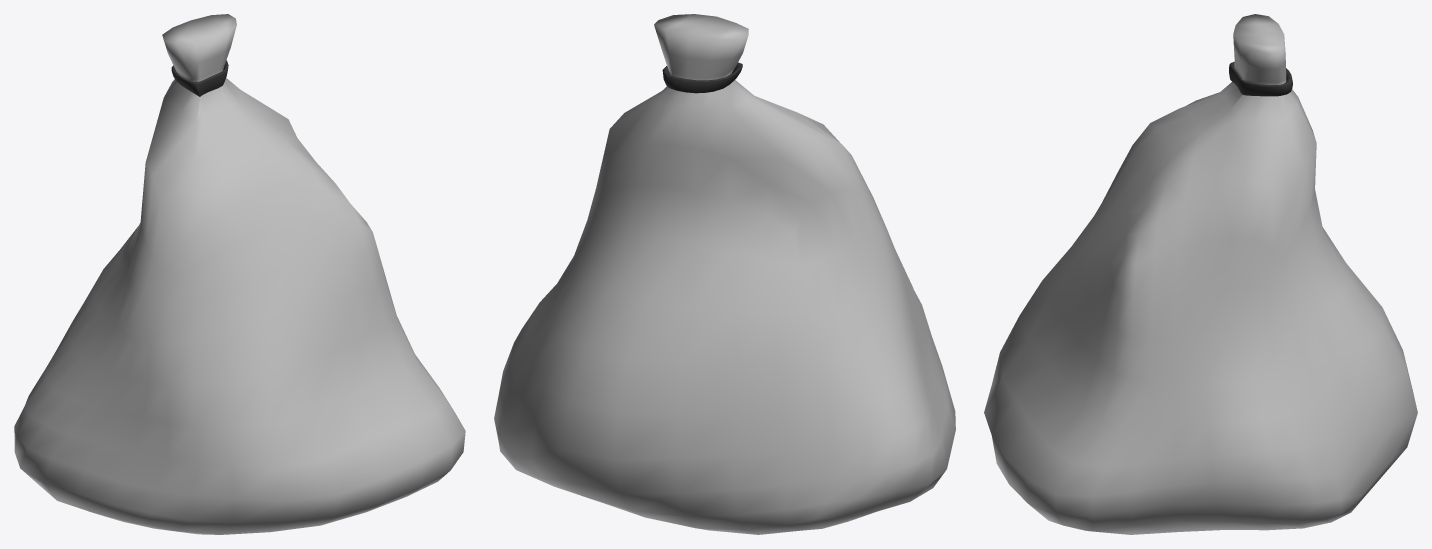
Rendered from rubbish_bag2.fbx.
3 views of the same model, side by side, from view 1: azimuth 30°, elevation 25°; view 2: azimuth 150°, elevation 25°; view 3: azimuth 270°, elevation 25° (orthographic). The views are drawn at different scales.
Parts seen in each view (by area): view 1: polySurface1, polySurface2; view 2: polySurface1, polySurface2; view 3: polySurface1, polySurface2.
Part boxes in pixels (x1,y1,x2,y2): polySurface1: (14,14,465,534); polySurface2: (171,60,228,96); polySurface1: (494,14,955,534); polySurface2: (662,62,742,93); polySurface1: (984,14,1417,534); polySurface2: (1229,61,1292,96).
Bounding box in the file's own units: 1.22 × 1.35 × 1.2.
